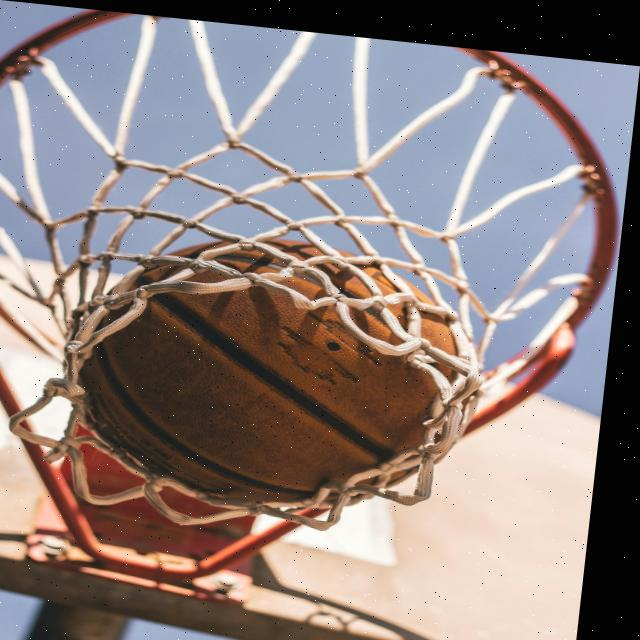Goal: (56, 222, 482, 530)
